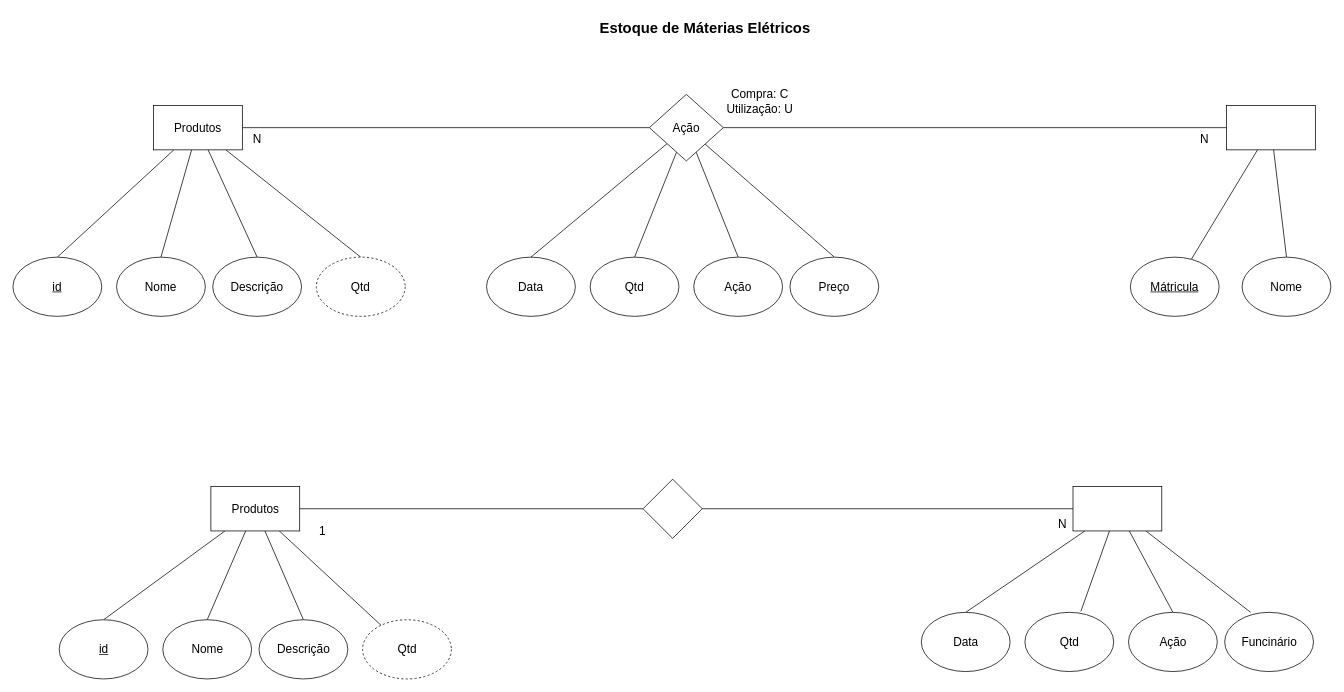
The diagram is 1344 pixels wide and 692 high, and some of its shapes have lost their labels. Each missing label, with the box of its shape:
Funcionários: (1226, 105, 1315, 150)
Movimentações: (1072, 486, 1162, 531)
Possui: (642, 478, 702, 538)
